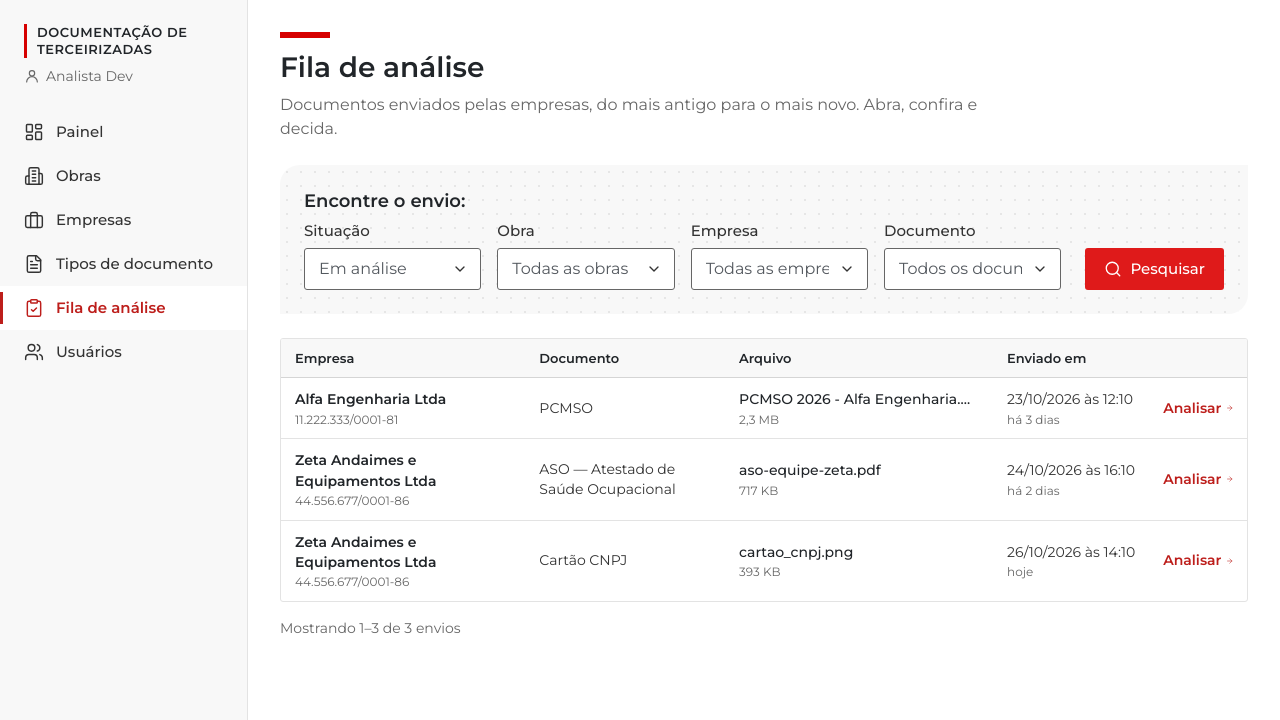
Test: Fila de análise › mostra o estado vazio quando não há nada para analisar
Check: the table named "Envios aguardando análise" is shown, box x1=281 y1=338 x2=1247 y2=601
Select "Gama Instalações Elétricas Ltda" in the dropdown labelled "Empresa" at coordinates (779, 268), box x1=691 y1=248 x2=868 y2=290
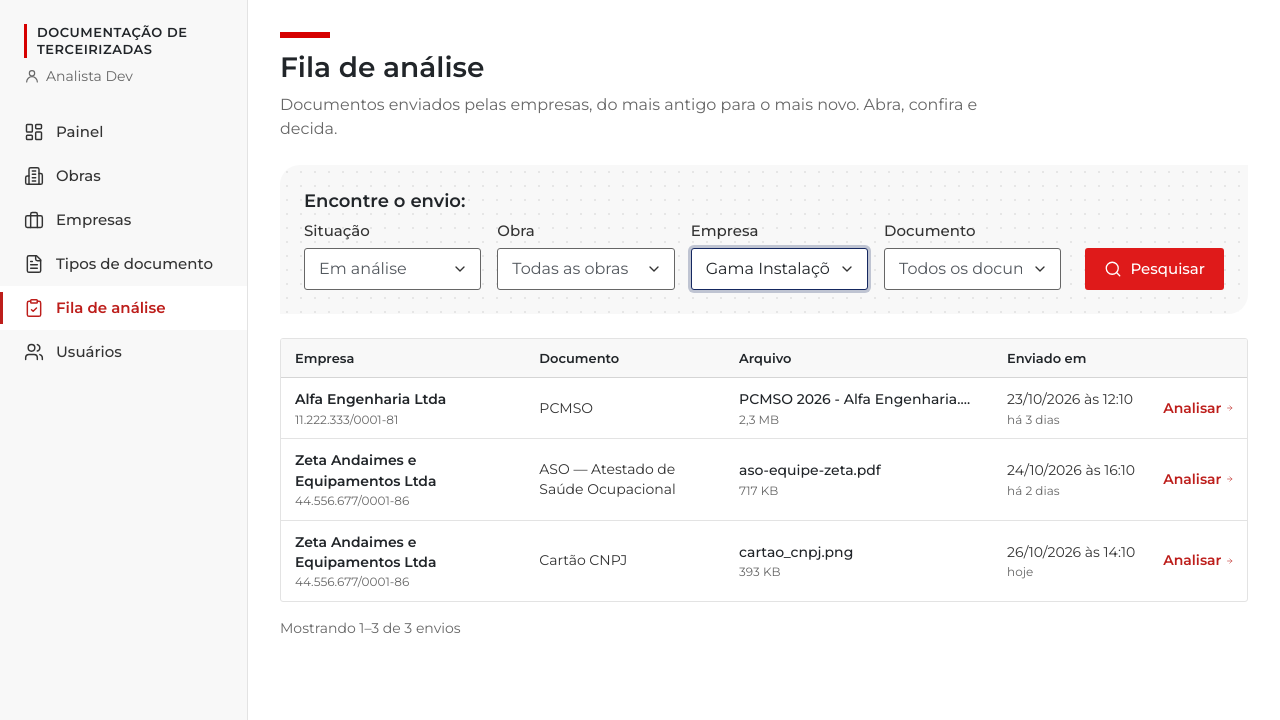
Click the button "Pesquisar" at coordinates (1155, 268), box x1=1085 y1=248 x2=1224 y2=290
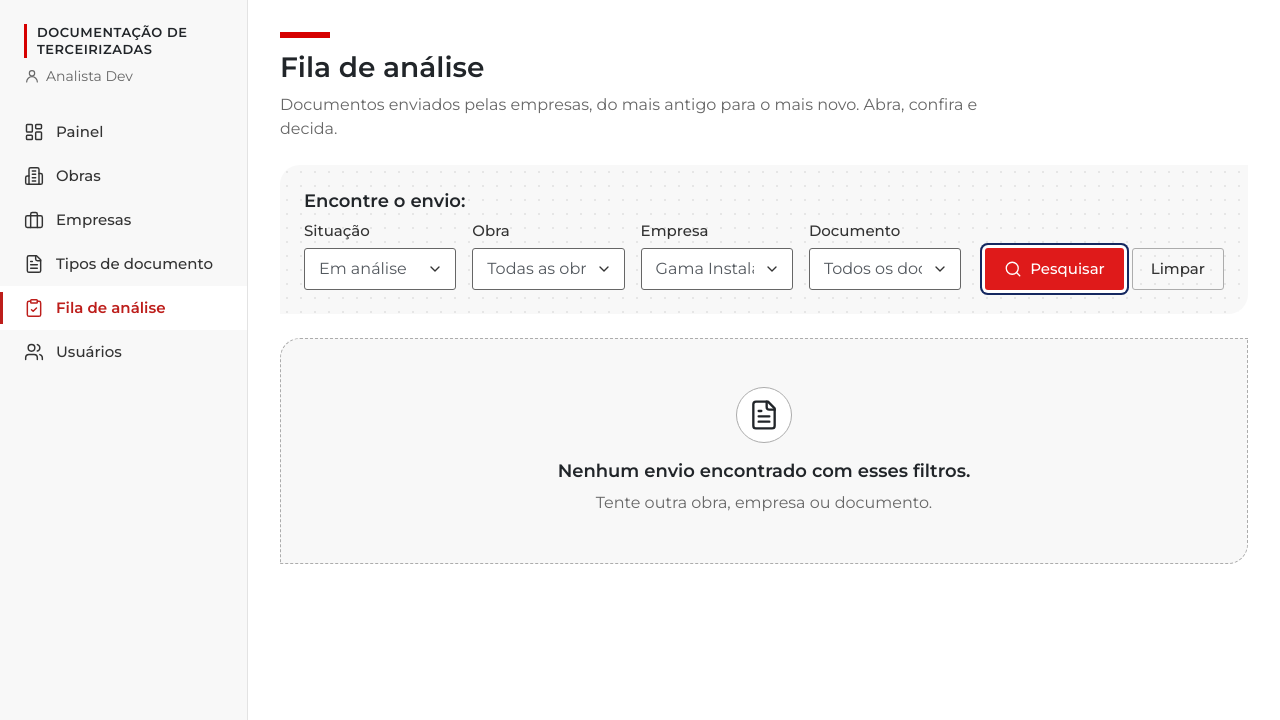
Check: the text "Nenhum envio encontrado com esses filtros." is shown, box x1=558 y1=458 x2=970 y2=483
